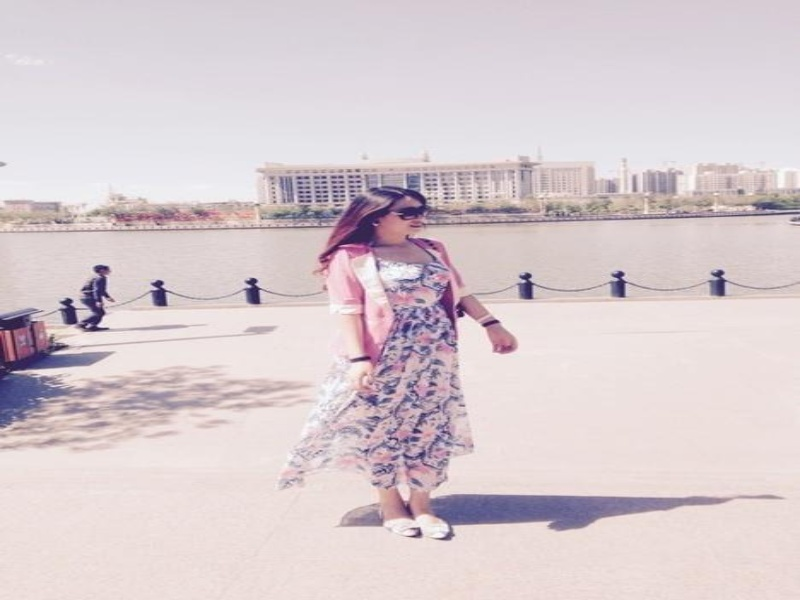sling_dress: (274, 236, 492, 498)
